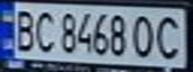4: (75, 9, 93, 55)
6: (90, 10, 112, 56)
8: (106, 10, 130, 58), (54, 9, 78, 54)
B: (9, 6, 39, 53)
C: (151, 12, 187, 61), (30, 8, 57, 54)
O: (127, 11, 160, 60)
